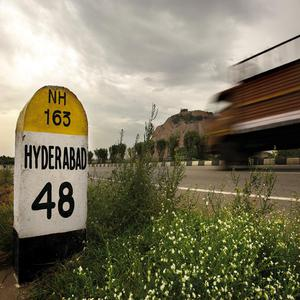kmstone: (14, 82, 90, 250)
